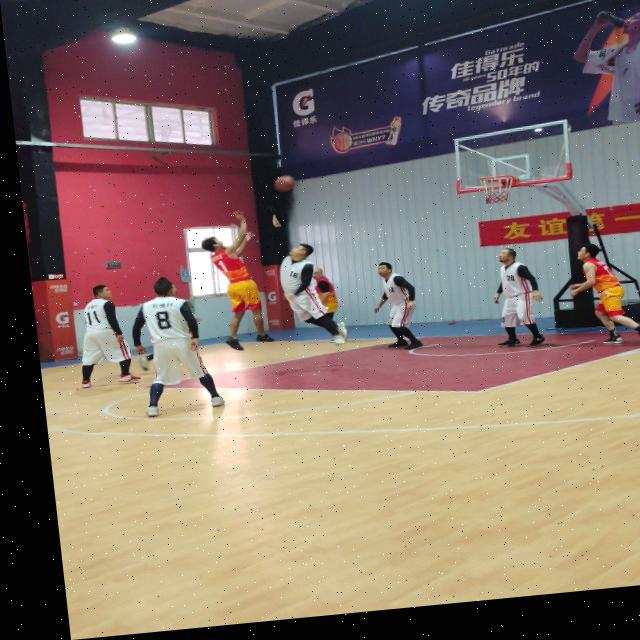basketball: (273, 174, 297, 194)
hoop: (478, 173, 518, 207)
